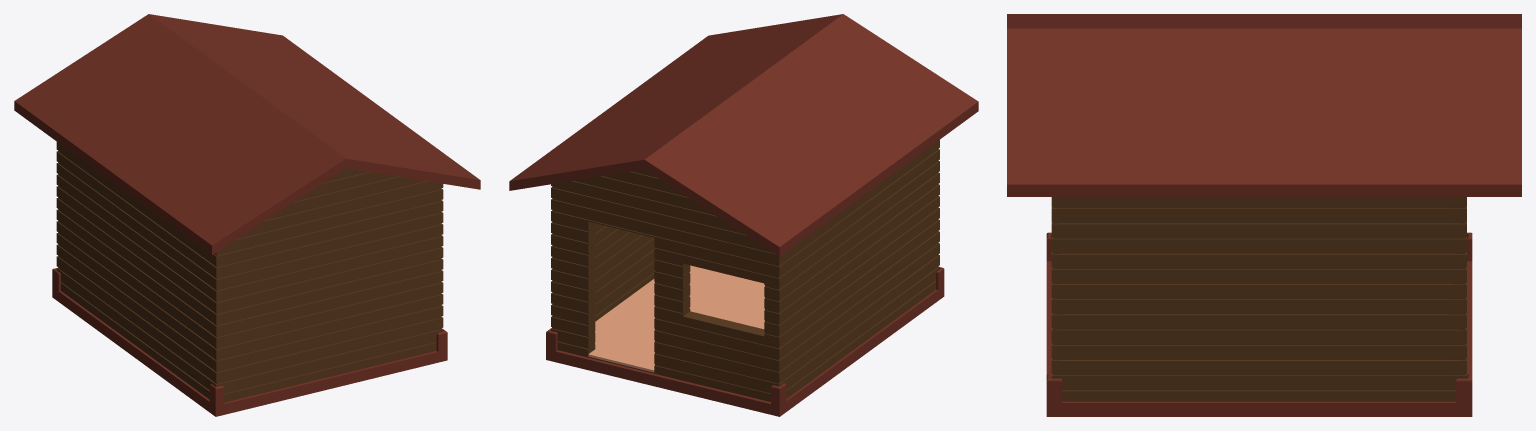
Rendered from casetta.glb.
The picture shows the model from 3 angles, left to right: view 1: azimuth 30°, elevation 25°; view 2: azimuth 150°, elevation 25°; view 3: azimuth 270°, elevation 25°; orthographic projection. The views are drawn at different scales.
Visible parts, largest first — view 1: Cube, Cube.006, Cube.003; view 2: Cube.006, Cube, Cube.002, Cube.003; view 3: Cube.006, Cube, Cube.003.
Boxes of the visible parts, x1,y1,x2,y2 form: Cube: [56, 142, 443, 402]; Cube.006: [14, 14, 480, 254]; Cube.003: [52, 268, 447, 416]; Cube.006: [509, 14, 978, 256]; Cube: [551, 140, 939, 401]; Cube.002: [588, 265, 764, 372]; Cube.003: [546, 267, 944, 416]; Cube.006: [1007, 14, 1521, 196]; Cube: [1051, 197, 1466, 401]; Cube.003: [1046, 232, 1472, 416].
Size of the model in its own units: 12.06 by 10.36 by 15.38.
